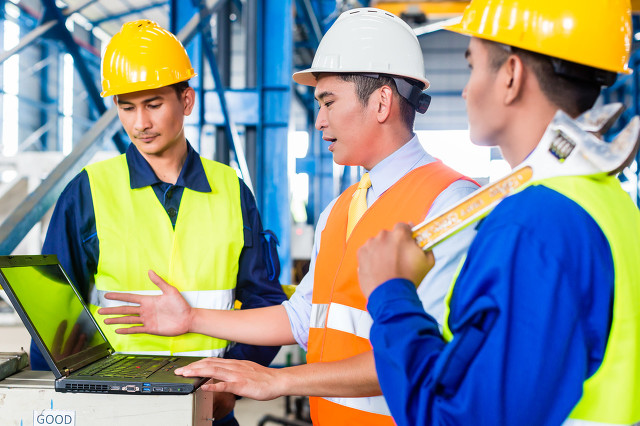safetyhat: (44, 16, 277, 357), (291, 1, 461, 300)
